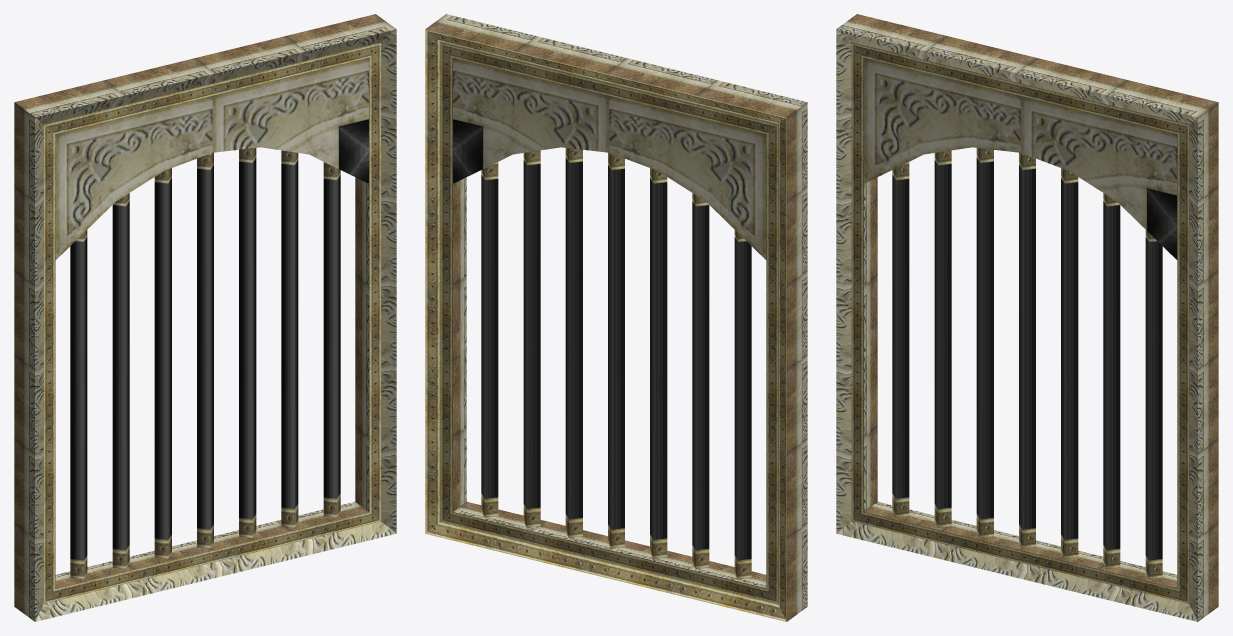
Rendered from door-stop.dae.
3 renders of one model, left to right at view 1: azimuth 30°, elevation 25°; view 2: azimuth 150°, elevation 25°; view 3: azimuth 330°, elevation 25°, orthographic.
Visible parts, largest first — view 1: Shape 2, Shape 1, Shape 0; view 2: Shape 2, Shape 1, Shape 0; view 3: Shape 2, Shape 1, Shape 0.
Part boxes in pixels (left/top/right/bottom): Shape 2: left=14, top=14, right=396, bottom=621; Shape 1: left=70, top=157, right=340, bottom=560; Shape 0: left=55, top=58, right=368, bottom=579; Shape 2: left=425, top=14, right=807, bottom=621; Shape 1: left=481, top=158, right=751, bottom=560; Shape 0: left=453, top=58, right=766, bottom=579; Shape 2: left=836, top=14, right=1218, bottom=621; Shape 1: left=892, top=157, right=1162, bottom=560; Shape 0: left=864, top=58, right=1177, bottom=579.
Bounding box in the file's own units: 300 × 400 × 30.
Materials: 3 (3 with a texture image).
